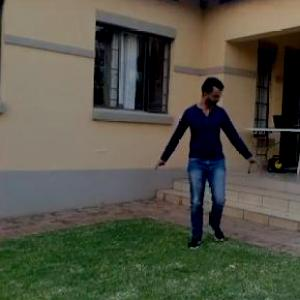land: (146, 63, 266, 260)
